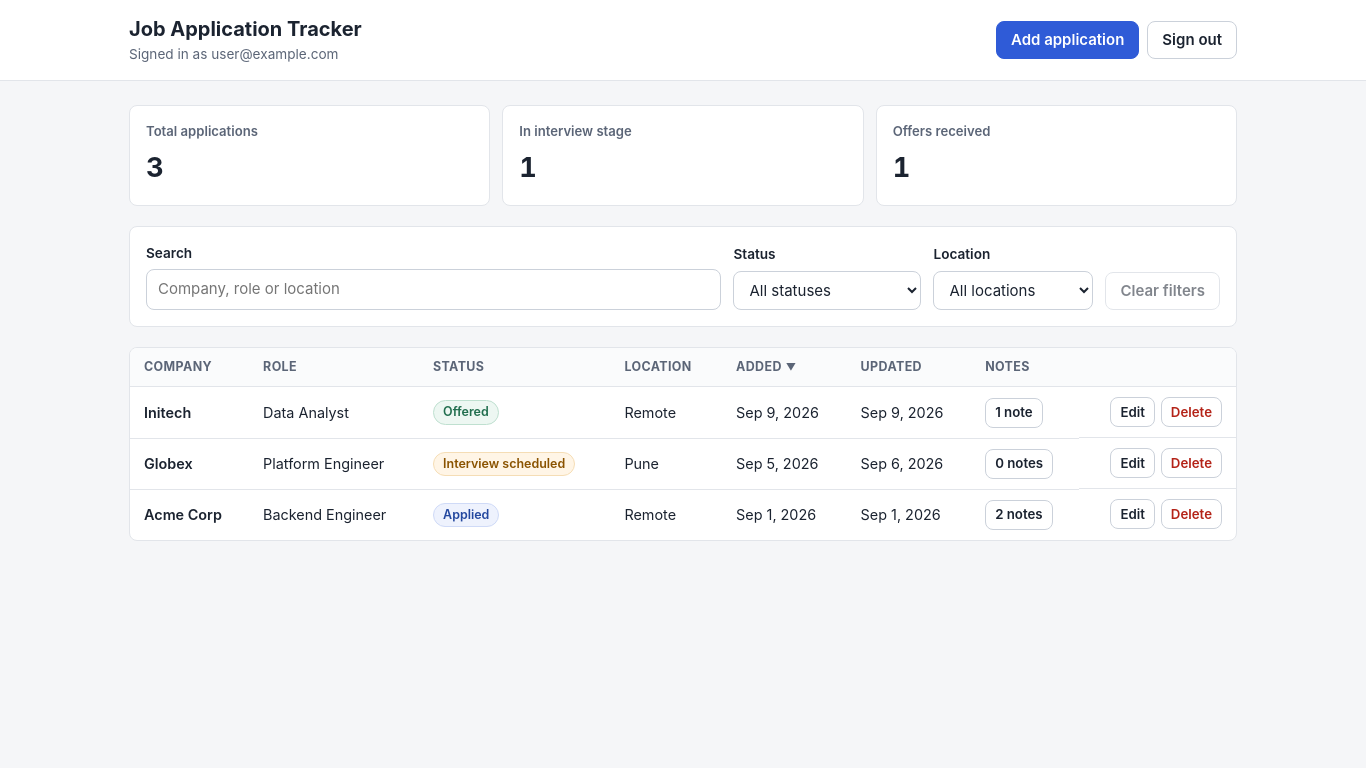
Dashboard › validates the create form before sending a request
The width and height of the screenshot is (1366, 768).
Check: the cell "Acme Corp" is shown, box [130, 490, 249, 540]
Click the button "Add application" at (1068, 40), box [996, 21, 1139, 59]
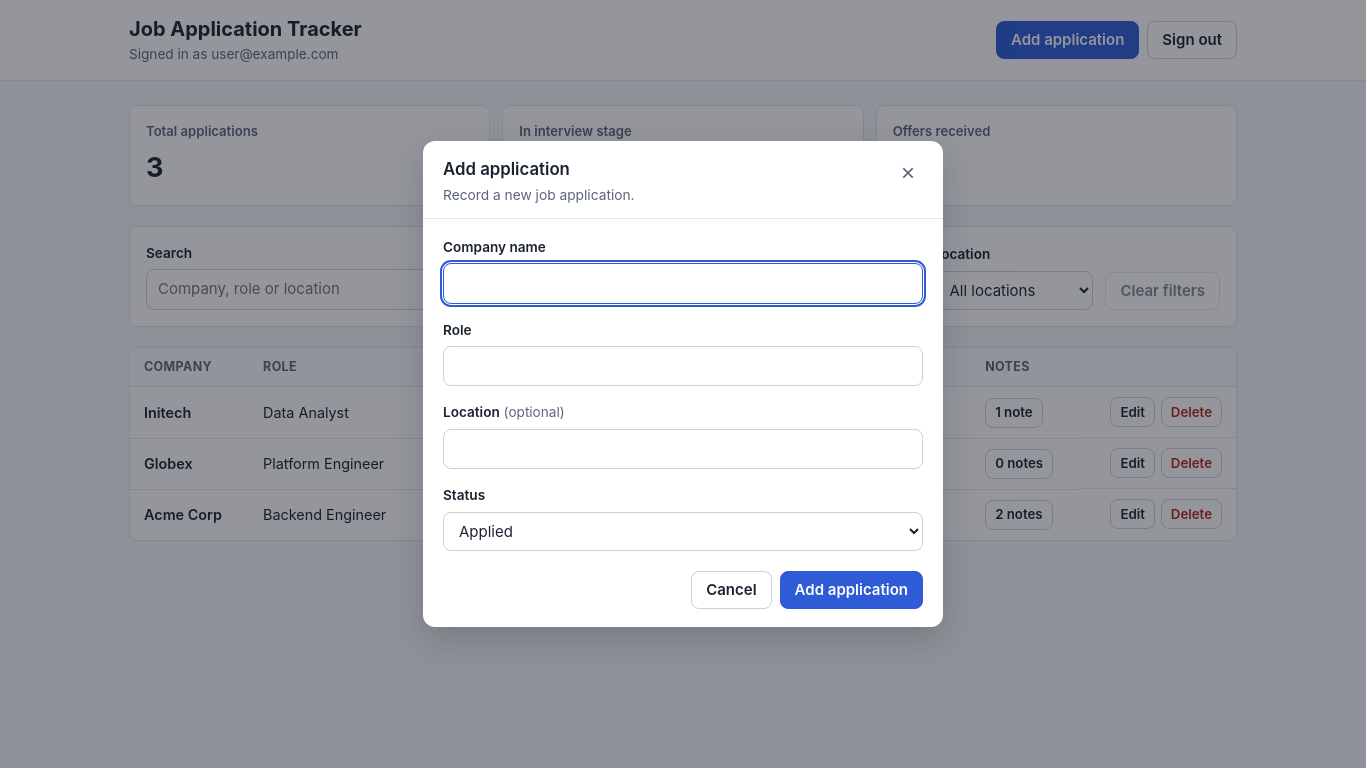
Click the button "Add application" at (851, 590), box [780, 571, 923, 609]
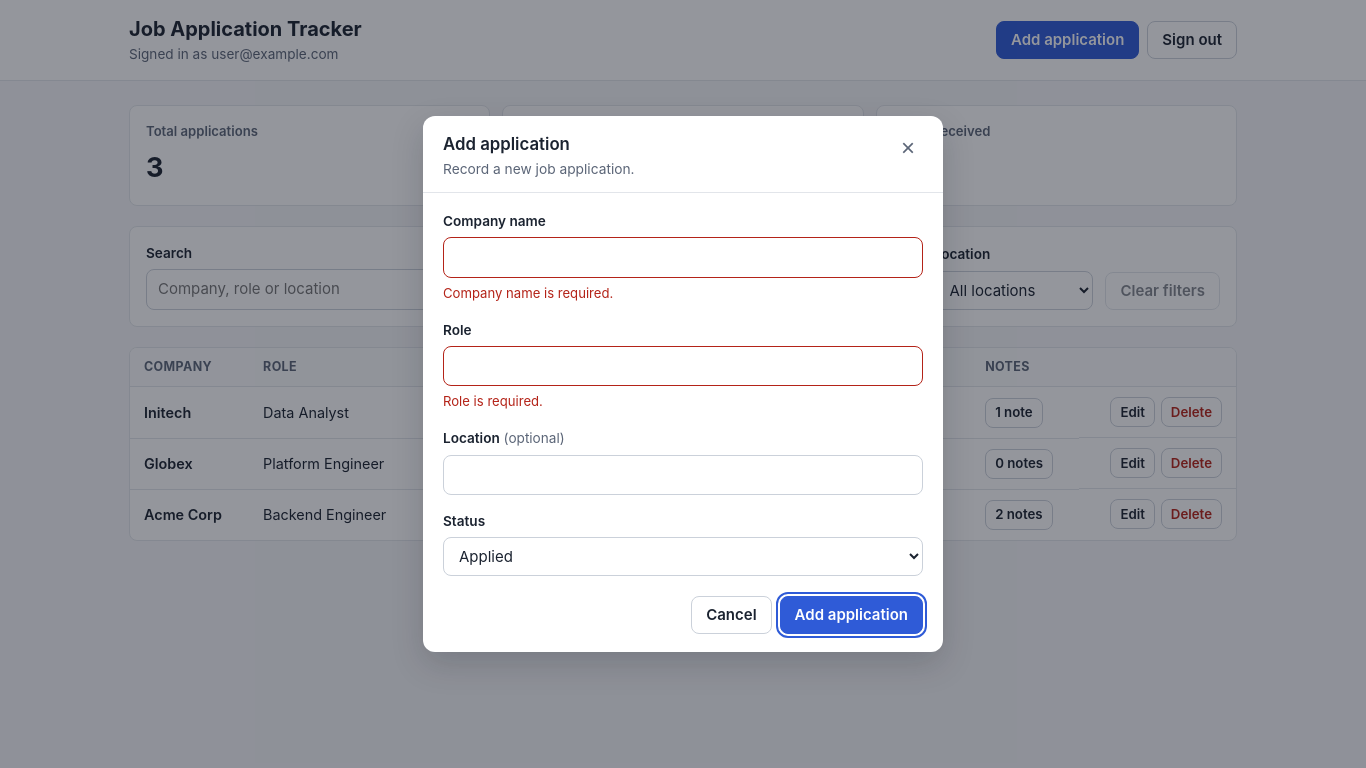
Check: the text "Company name is required." is shown, box [443, 285, 613, 301]
Check: the text "Role is required." is shown, box [443, 394, 543, 410]
